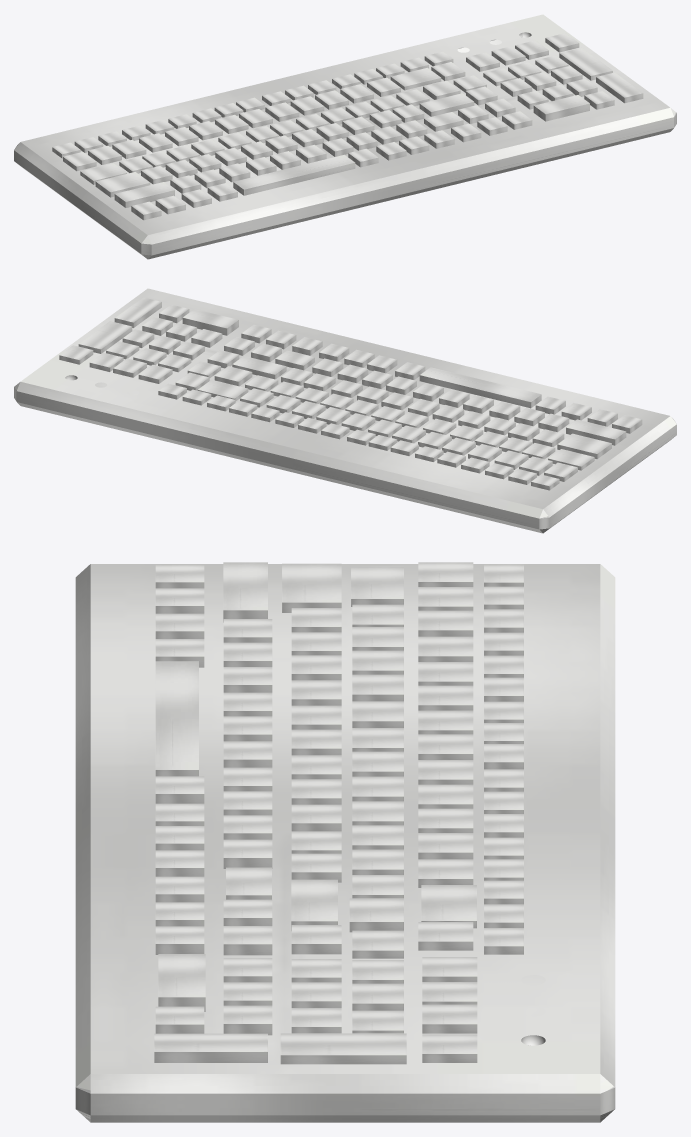
The model's file is tecli.FBX.
The picture shows the model from 3 angles, top to bottom: view 1: azimuth 30°, elevation 25°; view 2: azimuth 150°, elevation 25°; view 3: azimuth 270°, elevation 25°; orthographic projection. The views are drawn at different scales.
Visible parts, largest first — view 1: Sphere001, Fila 2, space Bar, numpad0, +, Shift, numpad1 (×2), Enternumpad, Caps, Enter, Backspace, Tab (+50 smaller); view 2: Sphere001, Fila 2, space Bar, +, numpad0, Shift, numpad1 (×2), Caps, Enternumpad, Enter, Backspace, Tab (+52 smaller); view 3: Sphere001, Fila 2, space Bar, +, Enternumpad, Caps, numpad1 (×2), Shift, numpad0, Enter, Backspace, Tab (+83 smaller).
Part boxes in pixels (x1,y1,x2,y2): Sphere001: (14, 14, 676, 259); Fila 2: (88, 90, 348, 164); space Bar: (233, 154, 355, 195); numpad0: (533, 95, 589, 121); +: (559, 47, 612, 80); Shift: (114, 182, 174, 207); numpad1 (×2): (466, 52, 548, 109); Enternumpad: (596, 72, 643, 103); Caps: (95, 172, 150, 197); Enter: (419, 93, 474, 116); Backspace: (390, 67, 441, 90); Tab: (80, 163, 126, 184); Sphere001: (14, 288, 676, 533); Fila 2: (292, 401, 552, 475); space Bar: (419, 367, 541, 408); +: (78, 321, 132, 353); numpad0: (182, 309, 238, 335); Shift: (566, 419, 626, 445); numpad1 (×2): (138, 329, 222, 383); Caps: (557, 433, 611, 458); Enternumpad: (114, 297, 161, 327); Enter: (232, 356, 286, 379); Backspace: (197, 379, 248, 401); Tab: (548, 449, 594, 470); Sphere001: (75, 564, 615, 1122); Fila 2: (418, 587, 473, 832); space Bar: (155, 661, 198, 776); +: (280, 1033, 406, 1064); Enternumpad: (154, 1033, 267, 1062); Caps: (282, 563, 341, 612); numpad1 (×2): (223, 957, 477, 982); Shift: (223, 562, 267, 622); numpad0: (158, 954, 205, 1011); Enter: (291, 879, 337, 930); Backspace: (421, 885, 476, 928); Tab: (351, 566, 403, 606).
Size of the model in its own units: 357 by 20.13 by 156.
